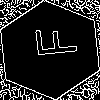F: (25, 25, 78, 60)
